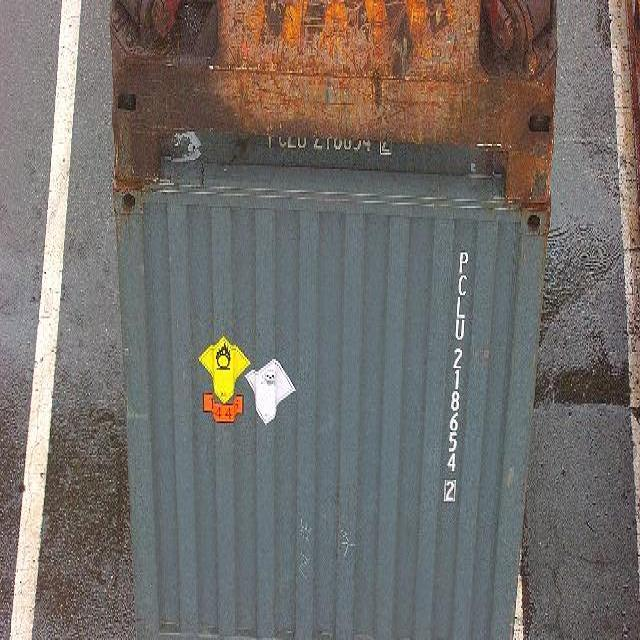container_number: (440, 224, 470, 496)
